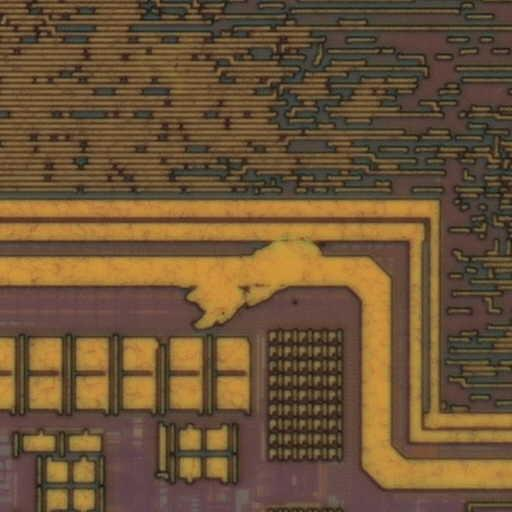BLOCK ETCH: (184, 235, 331, 336)
